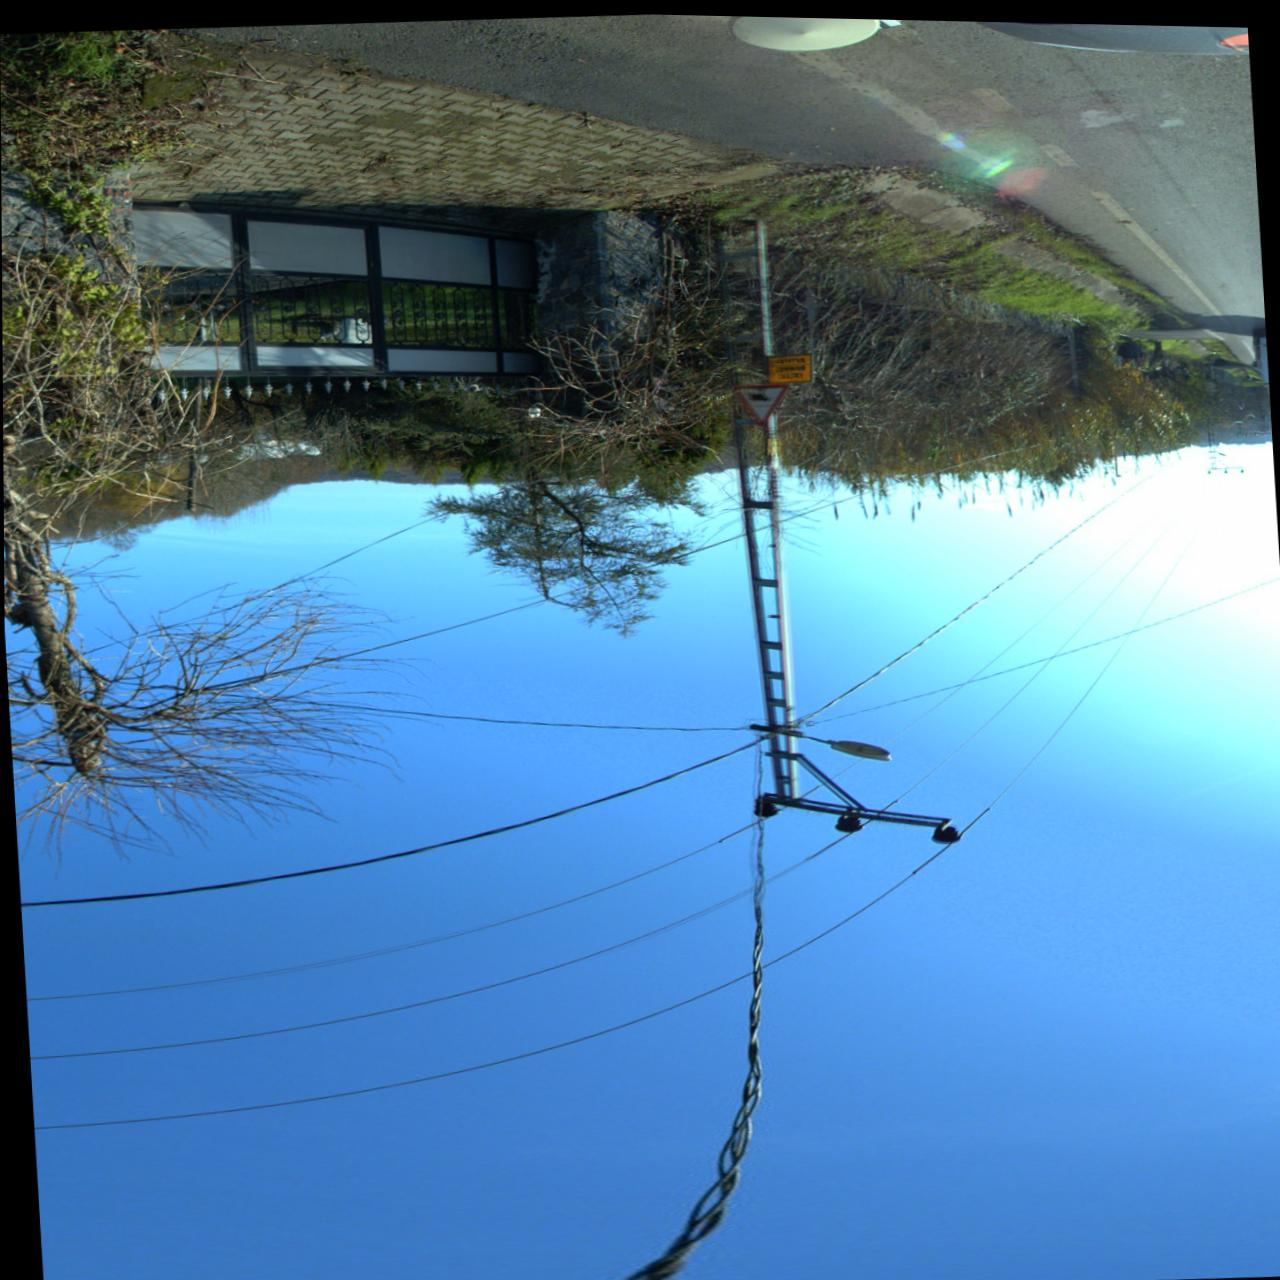Utility Pole Information Plate: (765, 433, 778, 448)
